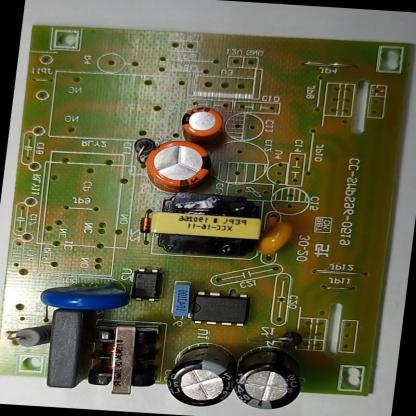Cap1: (137, 136, 217, 195)
Cap2: (173, 103, 230, 145)
Cap3: (157, 336, 245, 413)
Cap4: (224, 338, 310, 413)
MOSFET: (185, 287, 257, 330)
Mov: (31, 271, 138, 318)
Resistor: (2, 316, 57, 353)
Transformer: (143, 190, 273, 262), (82, 315, 166, 400)
